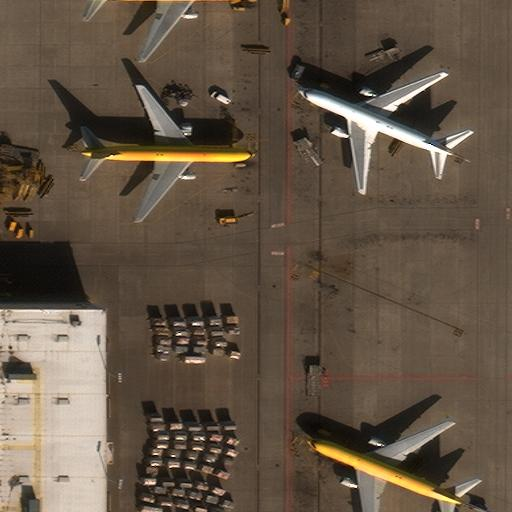Large Civil Transport: (81, 85, 254, 221), (298, 72, 454, 191), (304, 420, 461, 512), (88, 0, 239, 62)
